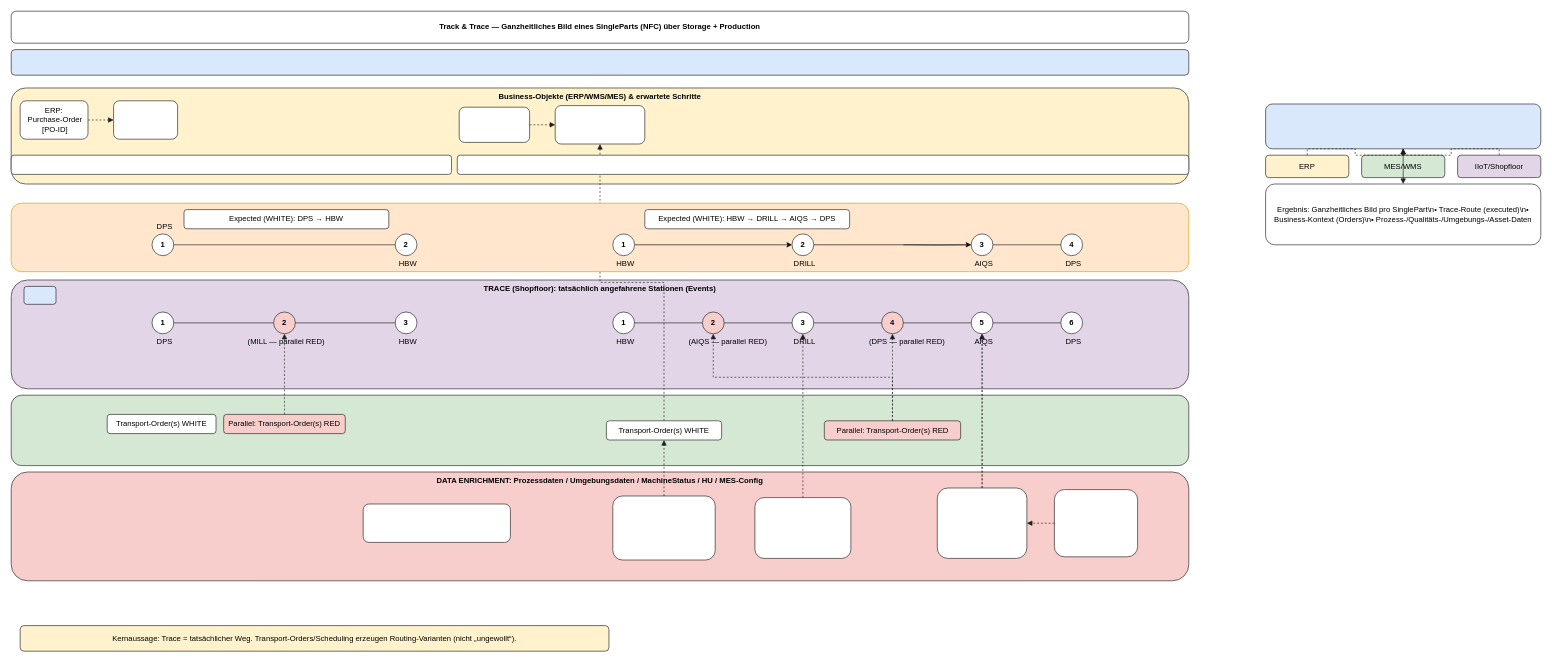
Some shapes in this 1552 by 662 pixel diagram are drawn without their labels. Each missing label, with the box of its shape:
ERP: Customer-Order [CO-ID]: (459, 107, 530, 142)
HU/Container Events (optional)\n→ HU enthält SingleParts: (363, 503, 510, 542)
MachineStatus / Errors / OEE\n→ bezogen auf Asset (z.B. DRILL): (754, 497, 851, 558)
MES/WMS Config: Routing, Device-Params,\nHU-Masterdata (nicht im ERP): (612, 495, 715, 560)
MES: Production-Order [PROD-ID]: (555, 105, 645, 144)
NFC: (23, 286, 56, 304)
ORBIS DSP\nKorrelation + Enrichment\nJoin-Key = NFC / Workpiece-ID: (1265, 103, 1541, 149)
Phase 1: Purchase-Order → Storage-Order: (11, 155, 452, 174)
Phase 2: Customer-Order → Production-Order: (457, 155, 1189, 174)
PLAN: (11, 203, 1189, 272)
Quality Result / Images / AIQS Output\n→ bezogen auf SinglePart: (937, 487, 1027, 558)
SinglePart / Workpiece-ID (NFC): [NFC-UID] | Produkt: WHITE | Zeitraum: [t0..tN]: (11, 49, 1189, 75)
TRANSPORT (FTS/AGV): Transport-Orders & Scheduling-Overlay: (11, 395, 1189, 466)
Umgebungswerte (Temp/Humidity/…)\n→ bezogen auf SinglePart: (1054, 489, 1138, 557)
WMS: Storage-Order [SO-ID]: (113, 100, 178, 139)
